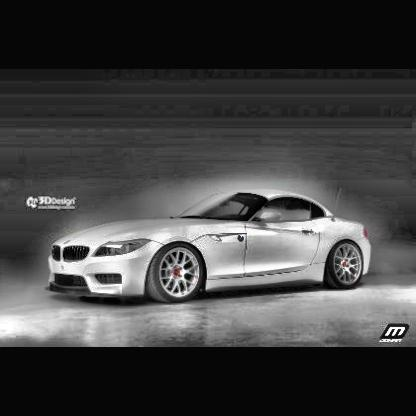BMW Z4 Convertible 2012: (44, 185, 374, 308)
